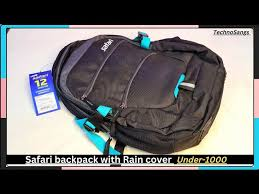backpack: (51, 31, 226, 156)
